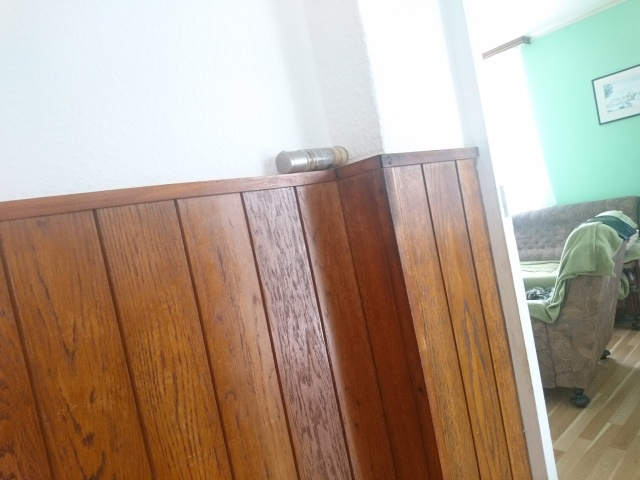Kotanyi Garlic Granules 70g: (274, 144, 351, 175)
